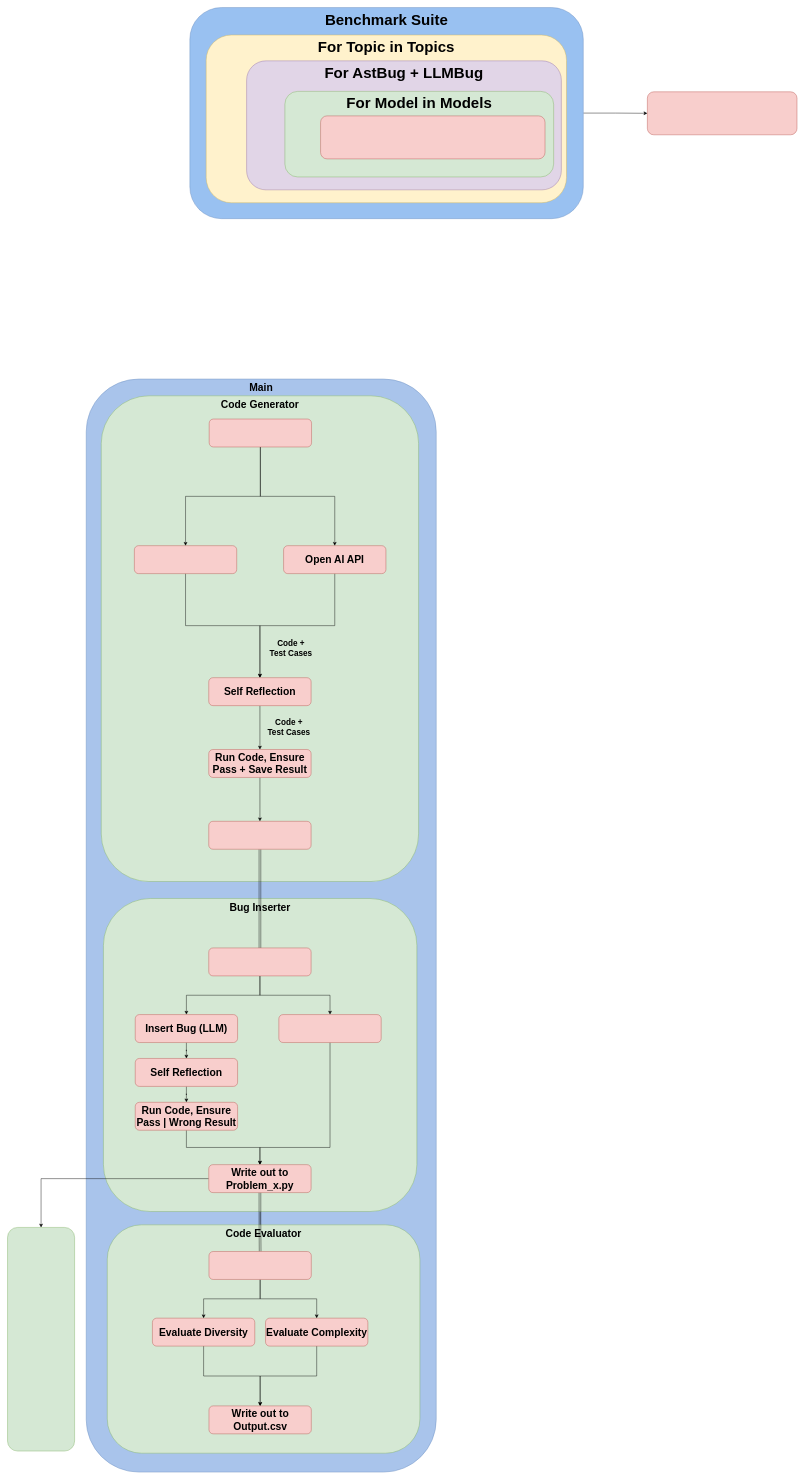
Image size: 805x1480. Some labels were removed from this diagram. The shapes that lost their labels are listed below. From the top down, each one's centre as x and y in pixels, then its label:
[722,113]: Output.csv
[432,137]: Main.py
[260,433]: Prompt + Parameters
[185,559]: Ollama API
[259,835]: Write out to Working_x.py
[259,962]: Read in from Working_x.py
[329,1028]: Insert Bug (AST)
[260,1265]: Read in from Problem_x.py
[41,1339]: Future front end to be used as educational tool
